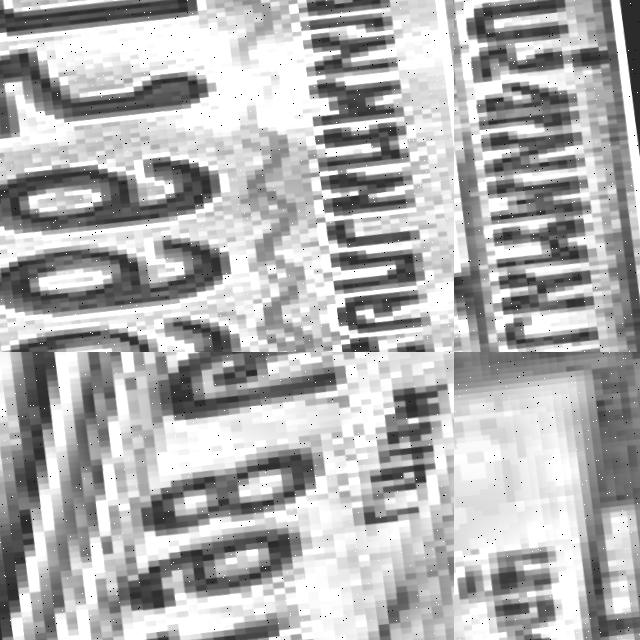license-plate: (0, 0, 454, 352), (0, 352, 454, 640), (454, 0, 640, 352), (454, 352, 640, 640)
